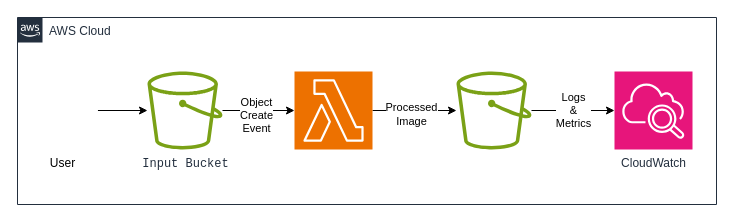
Some shapes in this 734 by 222 pixel diagram are drawn without their labels. The shapes that lost their labels are listed below. From the top down, each one's centre as x and y in pixels, then its label:
(x=333, y=110): Lambda
(x=493, y=110): Output Bucket
